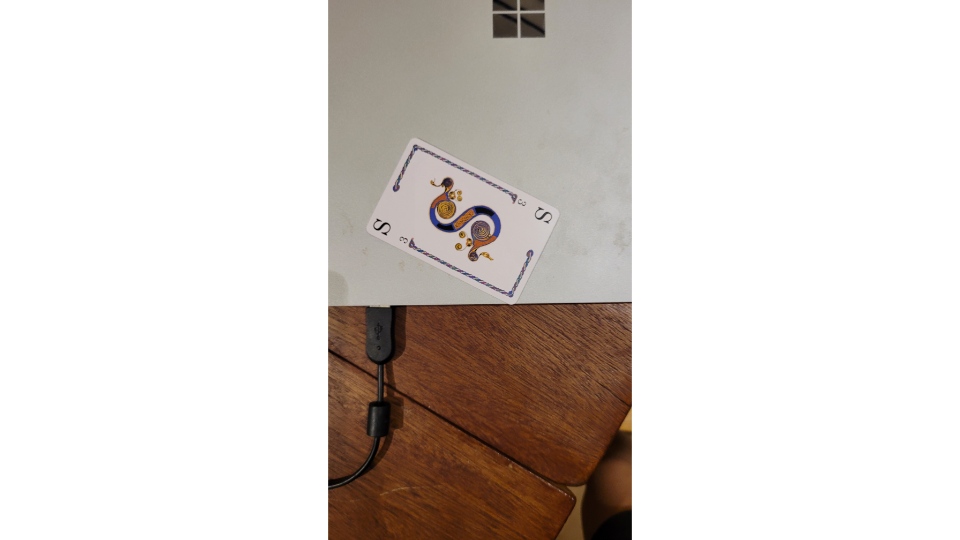S: (363, 136, 567, 308)
